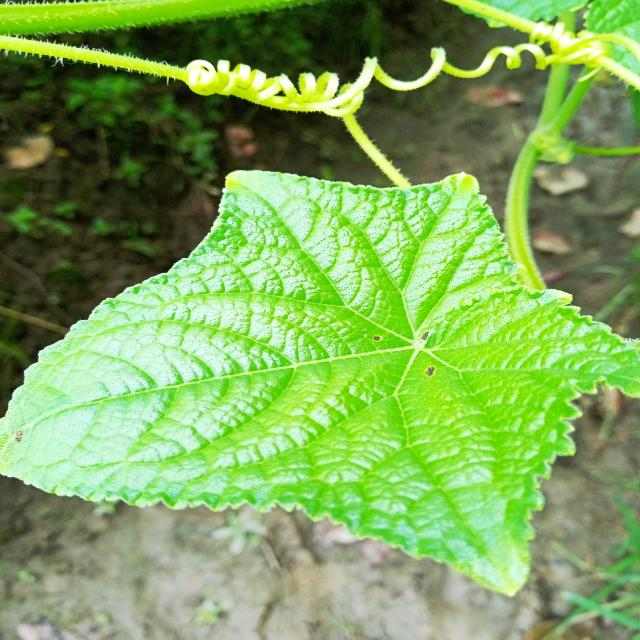Fresh-Leaf: (0, 171, 640, 600)
